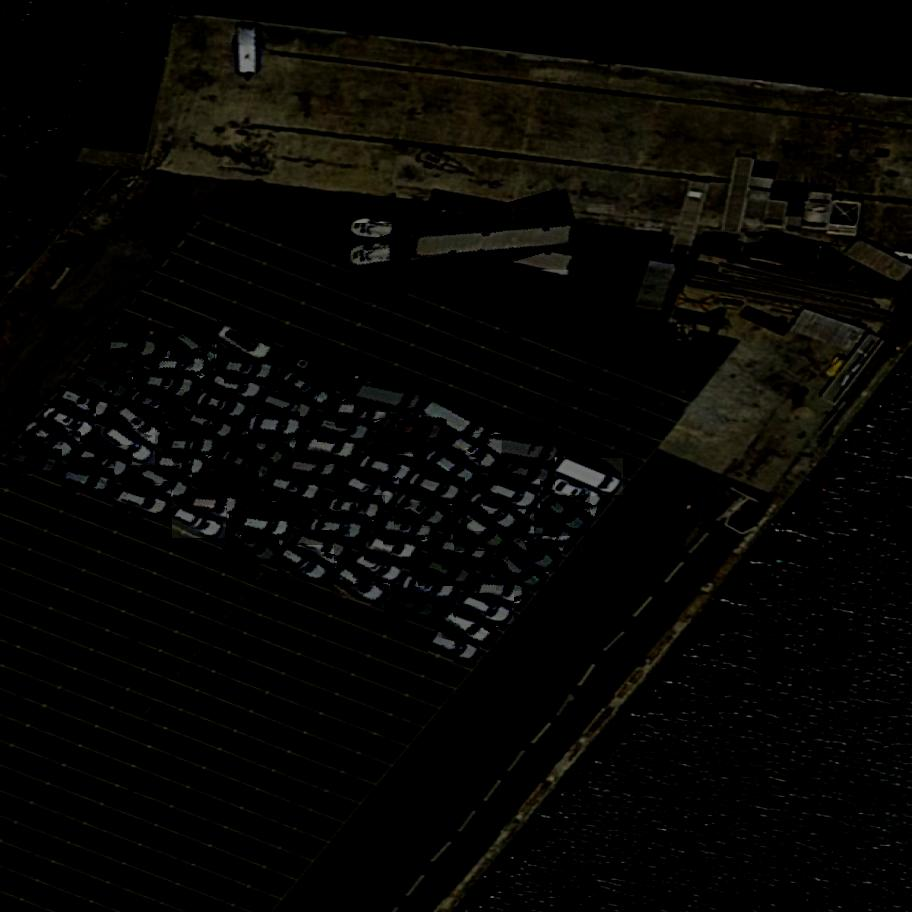large-vehicle: (349, 224, 578, 270)
small-vehicle: (422, 397, 490, 445), (534, 488, 591, 541), (556, 457, 624, 498), (423, 445, 482, 491), (215, 319, 275, 364), (454, 509, 510, 556), (467, 489, 523, 536), (238, 422, 290, 472), (278, 368, 334, 414), (394, 488, 450, 533), (334, 563, 387, 610), (24, 418, 77, 464), (280, 543, 335, 587), (101, 425, 155, 469), (448, 431, 503, 474), (442, 606, 496, 649), (496, 550, 545, 597), (114, 403, 164, 449), (483, 435, 562, 464), (227, 524, 279, 568), (170, 326, 222, 370), (508, 531, 559, 575), (135, 465, 192, 504), (354, 383, 425, 414), (407, 469, 466, 506), (456, 592, 514, 629), (548, 475, 603, 514), (218, 446, 273, 485), (172, 504, 227, 543), (114, 484, 173, 520), (419, 553, 477, 589), (76, 444, 132, 481), (384, 588, 443, 623), (343, 472, 397, 510), (42, 404, 97, 441), (374, 432, 429, 467), (483, 478, 541, 511), (428, 631, 482, 666), (293, 530, 351, 562), (59, 389, 113, 423), (353, 551, 404, 587), (129, 388, 185, 420), (356, 452, 413, 483), (366, 532, 421, 564), (80, 369, 133, 402), (195, 391, 250, 422), (211, 372, 265, 403), (258, 492, 312, 523), (186, 409, 236, 442), (400, 575, 458, 603), (263, 392, 317, 422), (325, 495, 385, 522), (499, 460, 555, 488), (272, 475, 324, 504), (301, 435, 359, 461), (61, 468, 116, 495), (317, 416, 372, 443), (308, 517, 368, 541), (7, 449, 62, 475), (104, 336, 161, 359), (224, 356, 276, 381), (391, 420, 447, 443), (155, 455, 208, 479), (248, 416, 303, 439), (92, 353, 142, 378), (241, 515, 293, 539), (440, 540, 494, 563), (146, 375, 199, 398), (382, 518, 435, 540), (289, 456, 340, 478), (209, 476, 259, 498), (471, 582, 528, 601), (525, 523, 575, 544), (190, 495, 242, 515), (335, 402, 386, 420), (159, 358, 209, 375), (171, 439, 217, 454)
